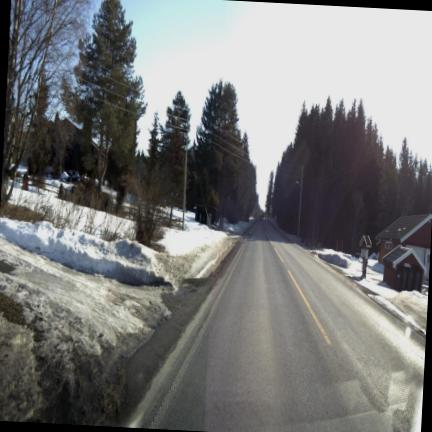Road: (139, 221, 425, 431)
